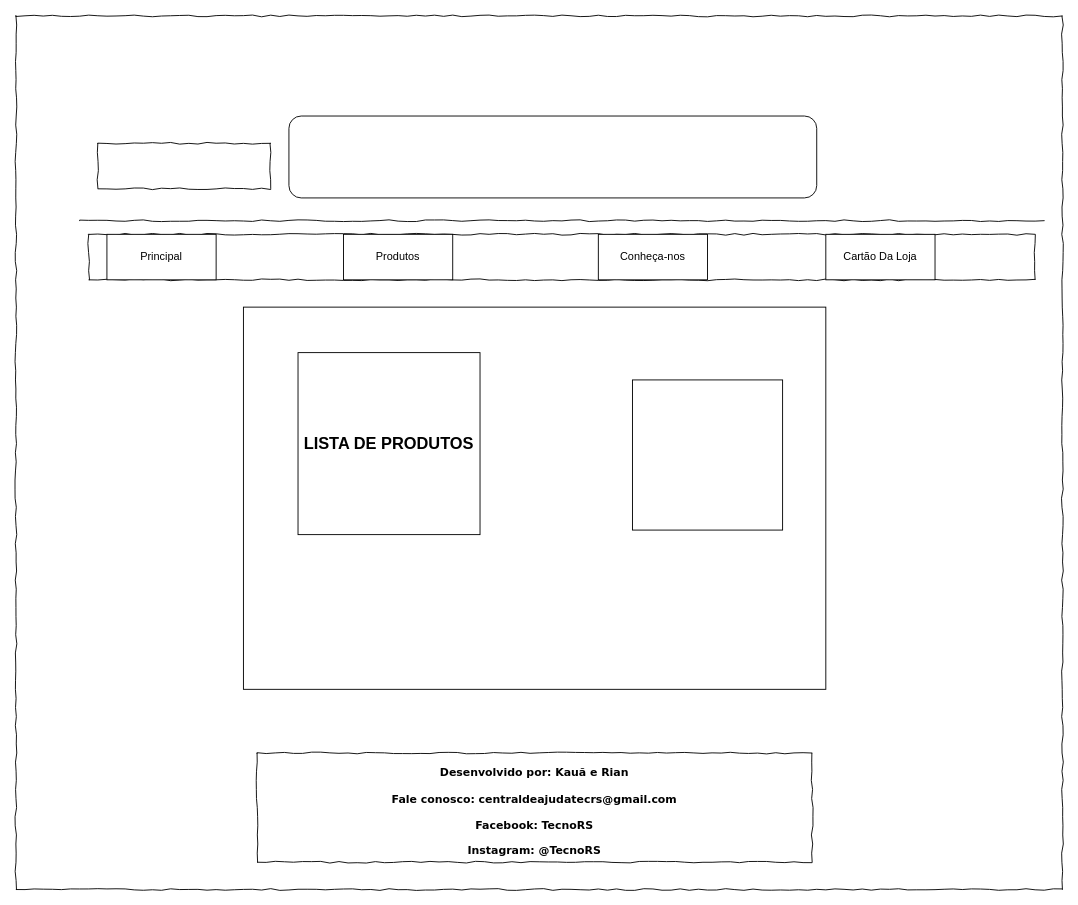
Some shapes in this 1078 by 905 pixel diagram are drawn without their labels. The centre of each missing label's shape, as x and y in pixels:
"BANNER" belongs at (x=552, y=156).
"FOTOS DOS PRODUTOS" belongs at (x=707, y=454).
"TecnoRS" belongs at (x=184, y=165).
